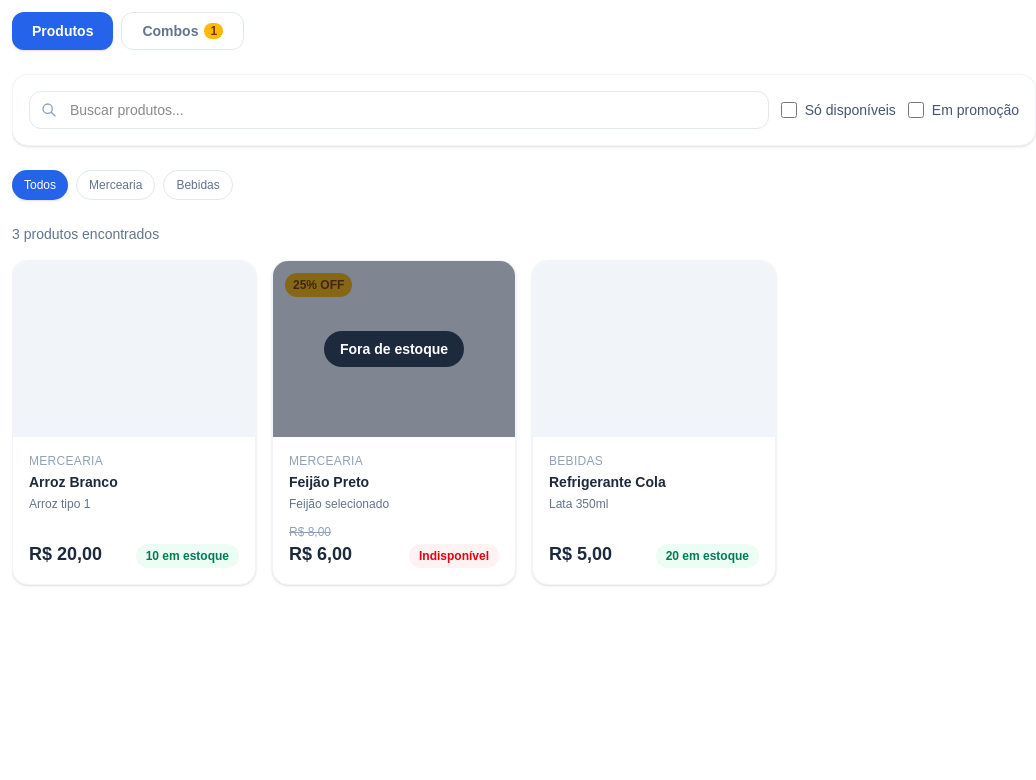
Test case: CatalogoClient › filtra produtos por categoria selecionada
The width and height of the screenshot is (1036, 780).
Click the button "Bebidas" at (198, 185), box [163,170,233,200]
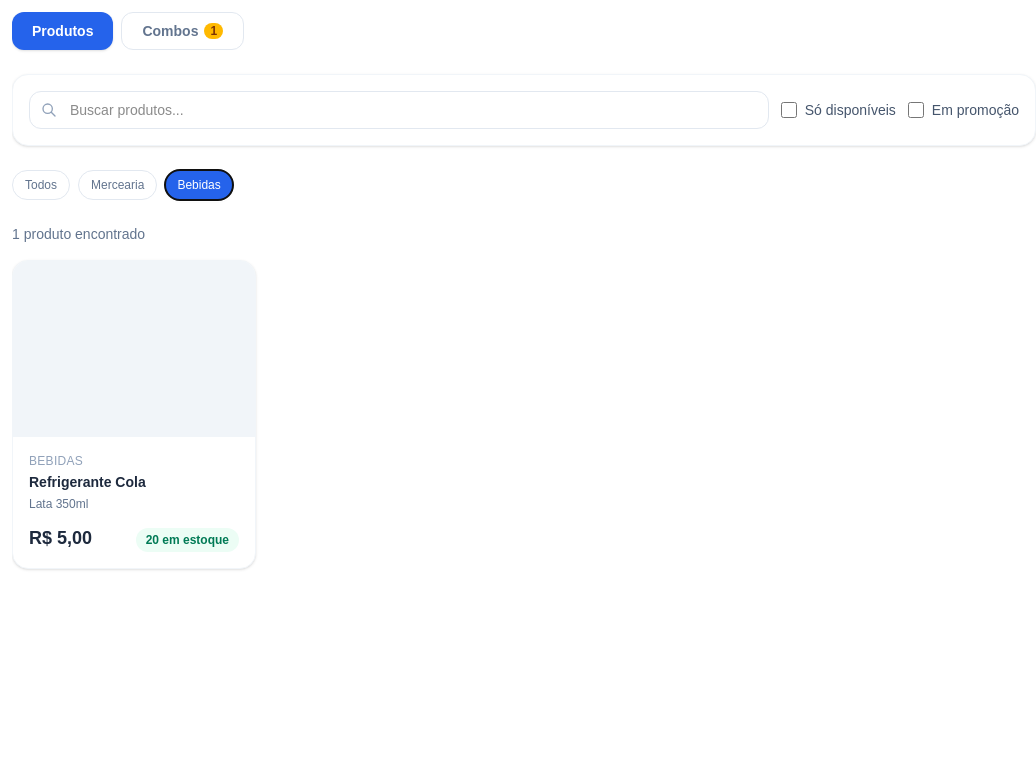
Expected: the heading "Refrigerante Cola" is shown, [29,474,146,490]
Result: the text "1 produto encontrado" is shown at [12,226,145,242]
Result: the link "Arroz Branco" is gone
